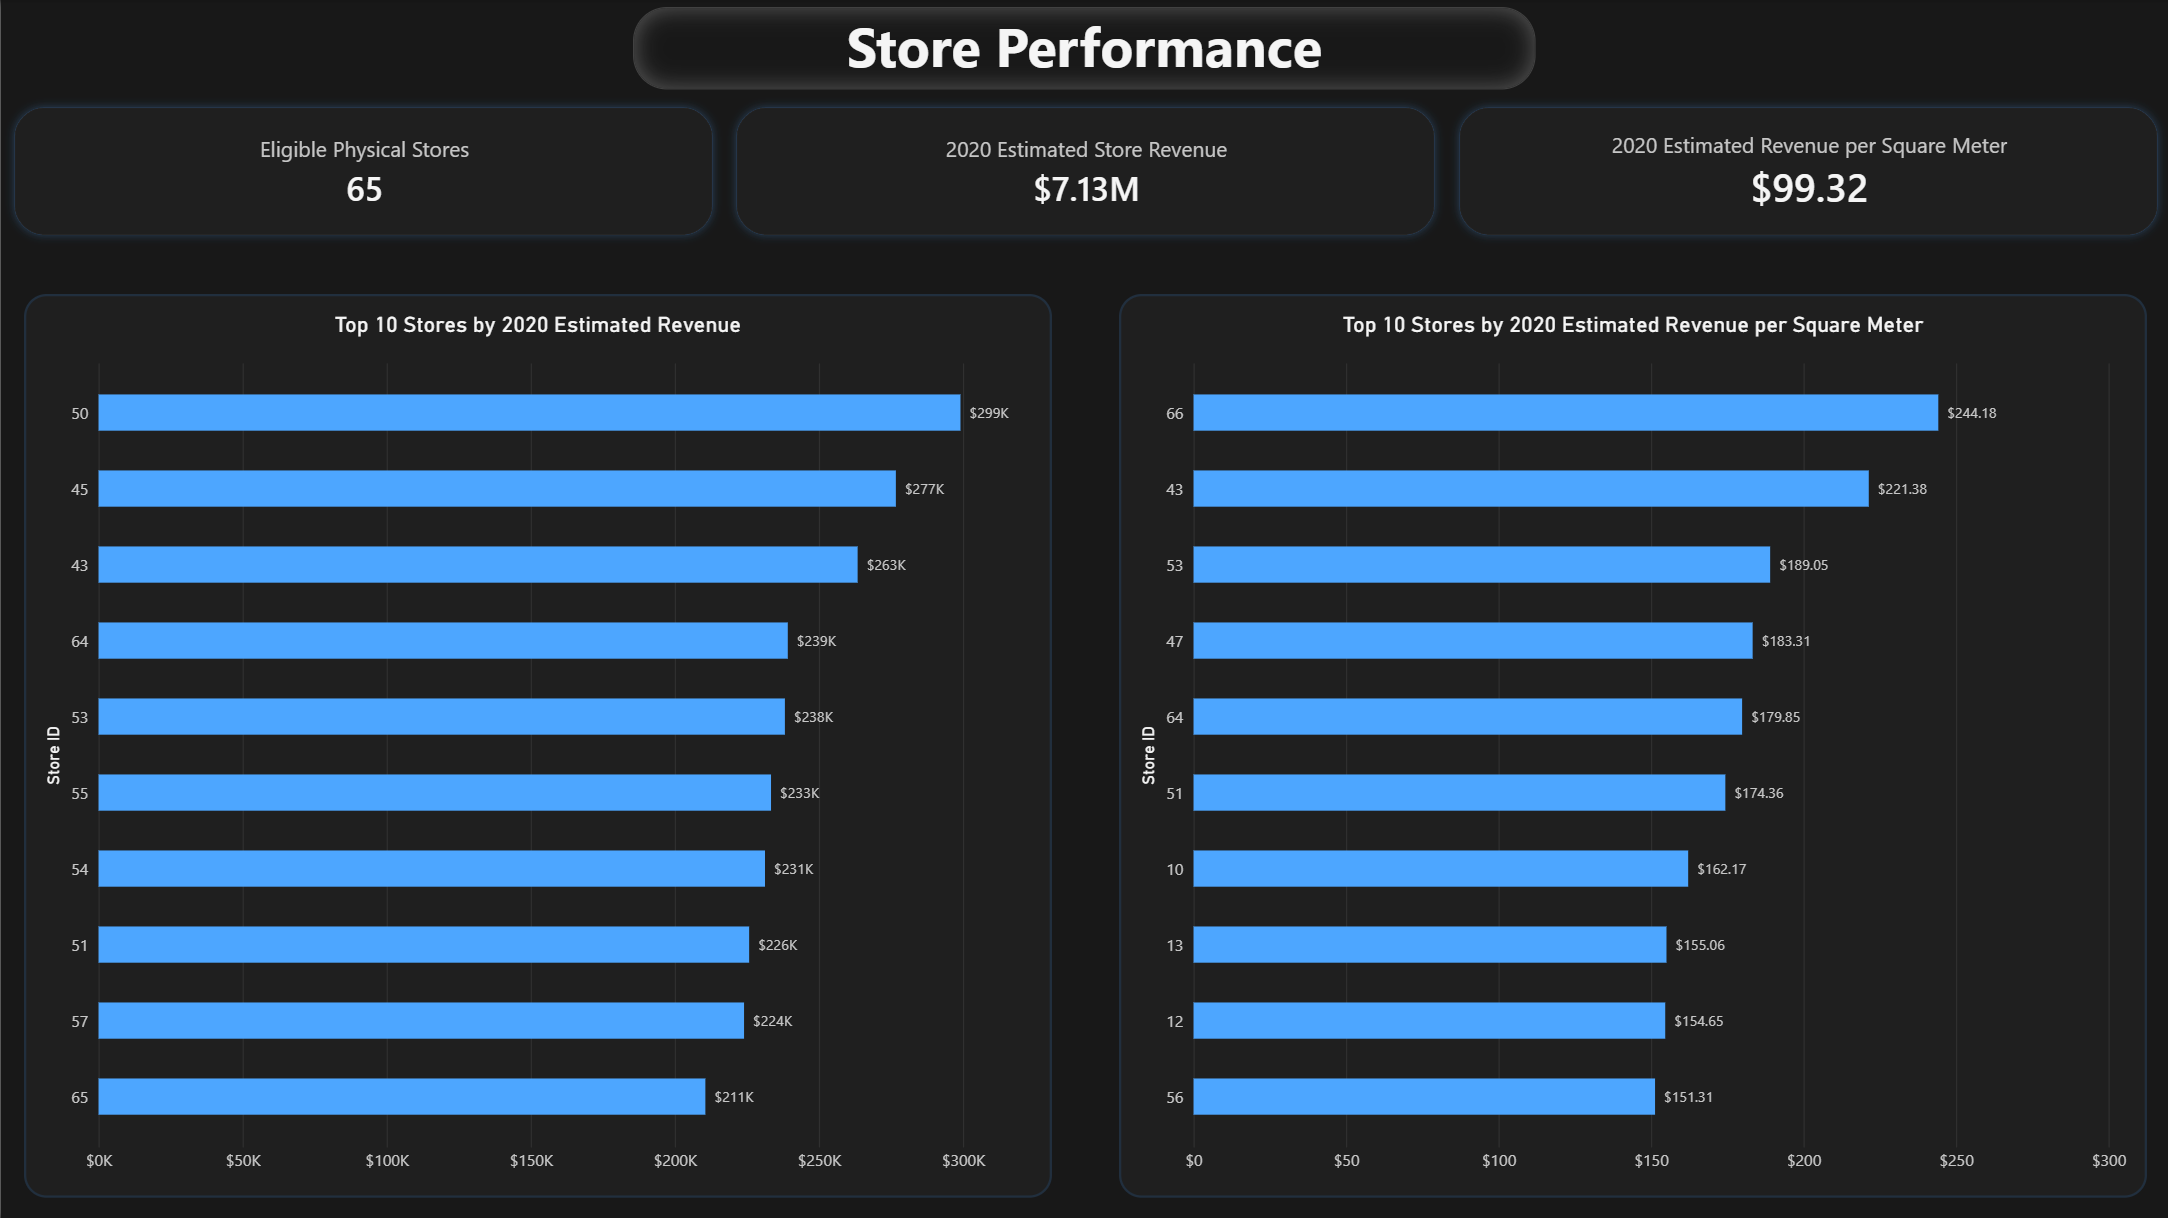

What the dashboard file says about the page in this screenshot:
{"tool":"powerbi","page":{"name":"Store Performance","canvas":[1920,1080],"ordinal":4},"visuals":[{"type":"textbox","box":[559.5,6.2,799.4,72.6],"z":0},{"type":"barChart","title":"Top 10 Stores by 2020 Estimated Revenue","fields":{"Category":["Store Performance.store_key"],"Y":["_Measures.Store Revenue USD"]},"box":[20,260,910,800],"z":1000},{"type":"barChart","title":"Top 10 Stores by 2020 Estimated Revenue per Square Meter","fields":{"Category":["Store Performance.store_key"],"Y":["_Measures.Store Revenue per Square Meter"]},"box":[990,260,910,800],"z":2000},{"type":"cardVisual","fields":{"Data":["_Measures.Eligible Physical Stores"]},"box":[0.6,83.7,640,135],"z":2001},{"type":"cardVisual","fields":{"Data":["_Measures.Store Revenue per Square Meter"]},"box":[1280,83.7,640,135],"z":2002},{"type":"cardVisual","fields":{"Data":["_Measures.Store Revenue USD"]},"box":[640.3,83.7,640,135],"z":2003}]}

Visuals, with their boxes in screenshot pixels (x1, y1, x2, y2), scaled from the page's 1920x1080 canvas onto the 2168x1218 screenshot:
textbox: bbox(632, 7, 1534, 89)
"Top 10 Stores by 2020 Estimated Revenue" barChart: bbox(23, 293, 1050, 1195)
"Top 10 Stores by 2020 Estimated Revenue per Square Meter" barChart: bbox(1118, 293, 2145, 1195)
cardVisual - _Measures.Eligible Physical Stores: bbox(1, 94, 723, 247)
cardVisual - _Measures.Store Revenue per Square Meter: bbox(1445, 94, 2167, 247)
cardVisual - _Measures.Store Revenue USD: bbox(723, 94, 1446, 247)
